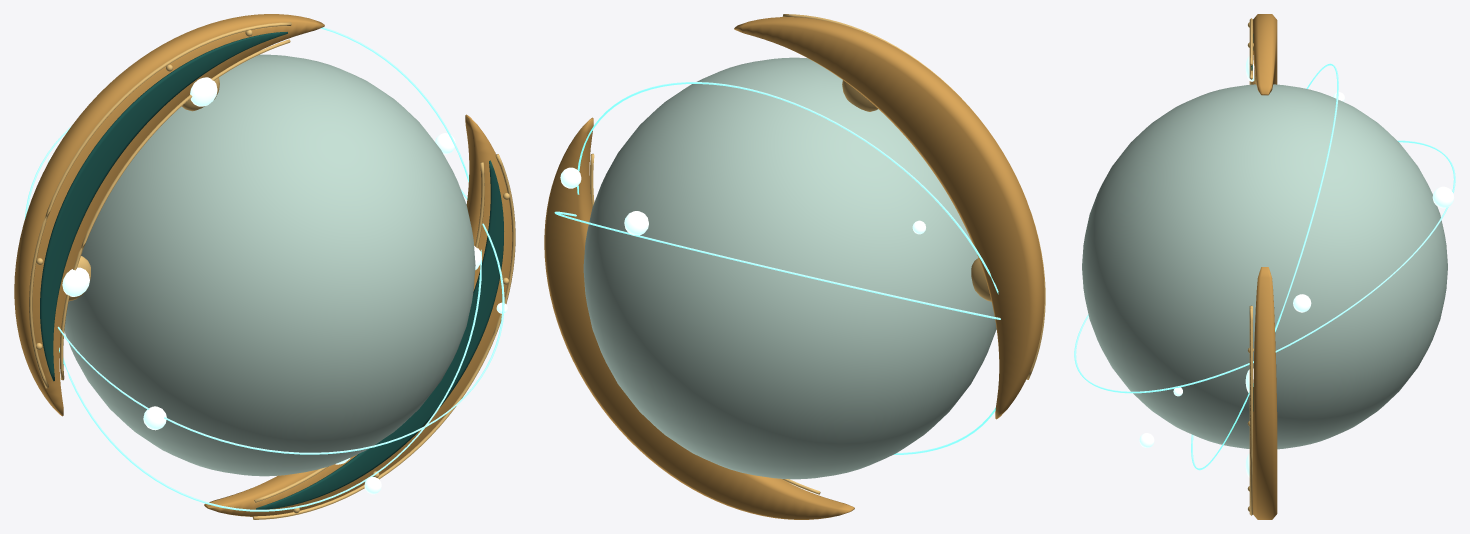
The model's file is signal_spark.fbx.
3 views of the same model, side by side, from view 1: azimuth 30°, elevation 25°; view 2: azimuth 150°, elevation 25°; view 3: azimuth 270°, elevation 25° (orthographic). The views are drawn at different scales.
Parts seen in each view (by area): view 1: GlassShell, GoldCrescents, TealInlay, OrbitMotes_Rails, OrbitMotes_Pearls; view 2: GlassShell, GoldCrescents, OrbitMotes_Rails, OrbitMotes_Pearls; view 3: GlassShell, GoldCrescents, OrbitMotes_Rails, OrbitMotes_Pearls.
Boxes of the visible parts, x1,y1,x2,y2 form: GlassShell: [64, 54, 475, 476]; GoldCrescents: [14, 14, 515, 519]; TealInlay: [40, 32, 503, 509]; OrbitMotes_Rails: [24, 27, 504, 511]; OrbitMotes_Pearls: [47, 133, 507, 494]; GlassShell: [583, 57, 996, 479]; GoldCrescents: [544, 14, 1045, 519]; OrbitMotes_Rails: [554, 82, 1000, 454]; OrbitMotes_Pearls: [560, 167, 925, 235]; GlassShell: [1082, 84, 1447, 449]; GoldCrescents: [1247, 14, 1277, 519]; OrbitMotes_Rails: [1074, 63, 1455, 470]; OrbitMotes_Pearls: [1139, 92, 1454, 447].
Size of the model in its own units: 90.81 by 88.73 by 70.21.
